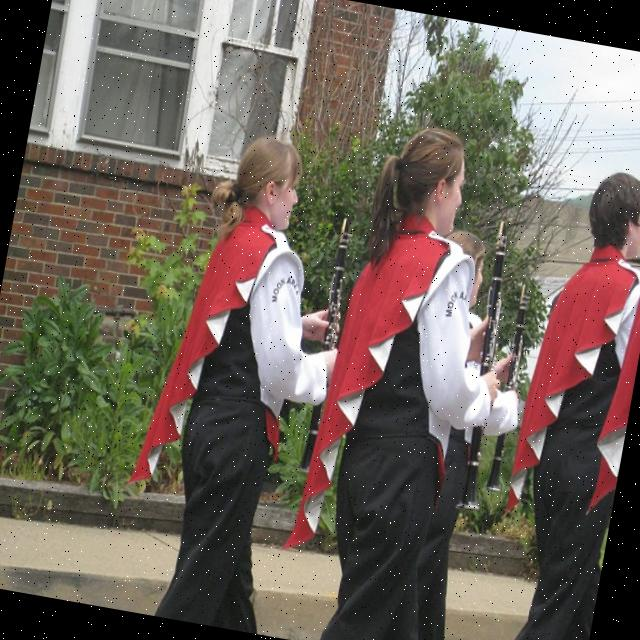clarinet: (443, 218, 528, 522), (291, 212, 368, 478), (478, 279, 540, 502)
